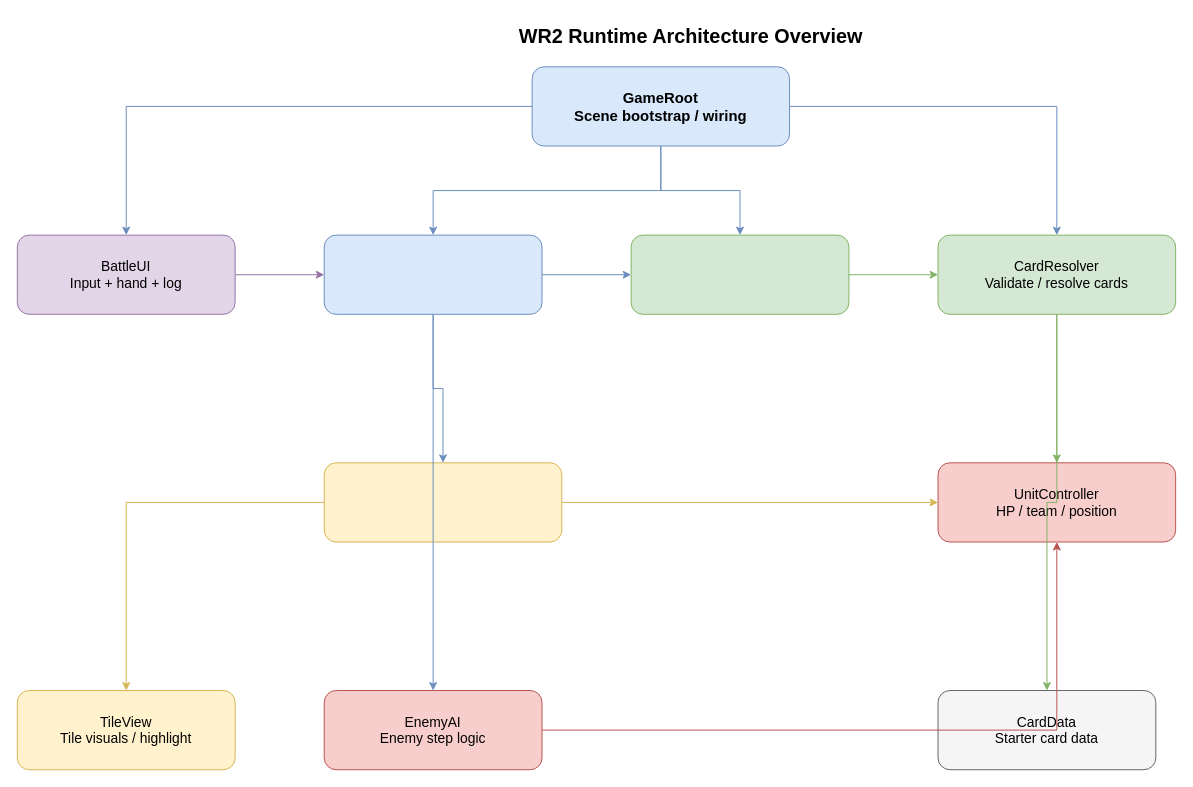
Image size: 1193x787. Some labels were removed from this diagram. The centre of each missing label's shape, as x and y in pixels:
DeckManager Draw / hand / discard: (x=739, y=274)
GridManager Grid / occupancy / ranges: (x=442, y=502)
TurnManager Turn flow / state: (x=432, y=274)
